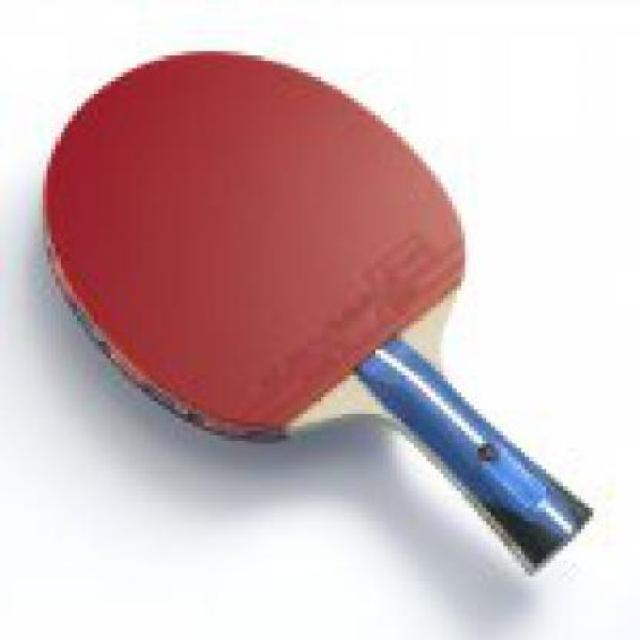table_tennis_racket: (41, 48, 470, 446)
